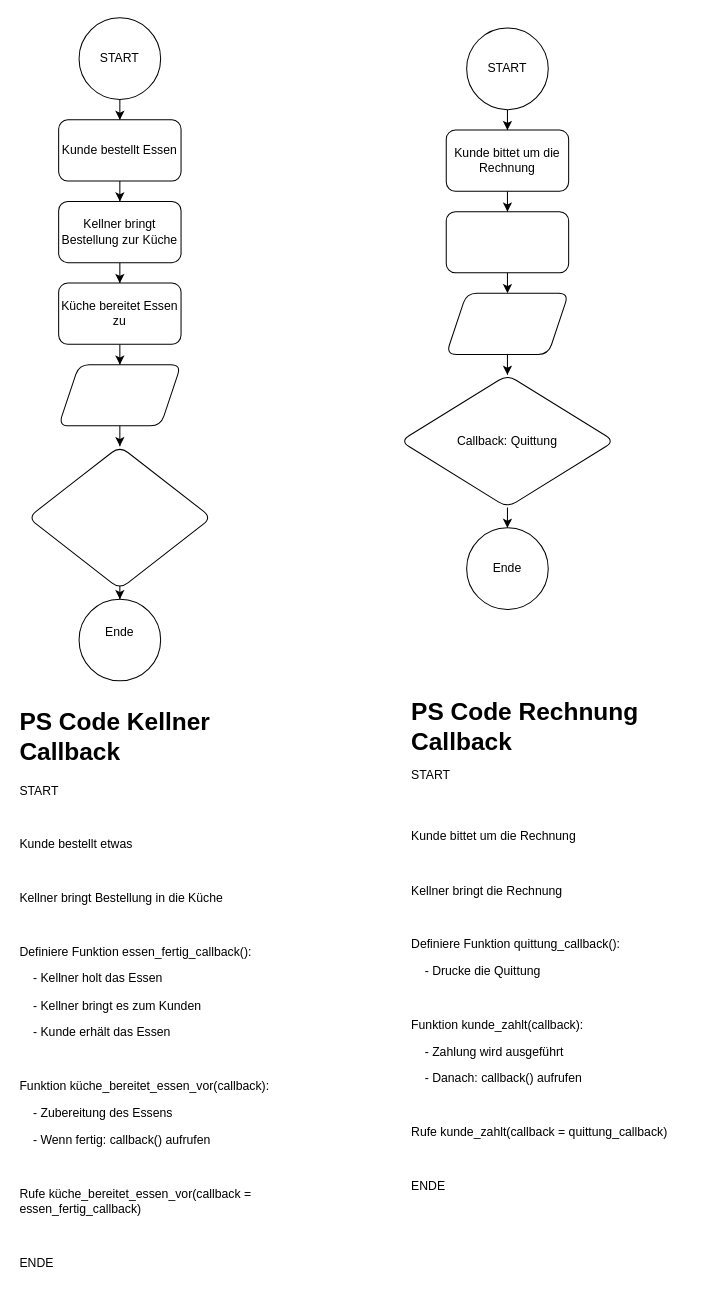
This 718x1304 diagram has some shape labels left out. Each missing label, with the centre of its shape:
Essen fertig -> Callback wird ausgelöst: the point at 119,395
Kellner bringt Essen zum Kunden: the point at 119,517
Kunde zahlt die Rechnung: the point at 507,242
Zahlung abgeschlossen -> Callback: the point at 507,323
